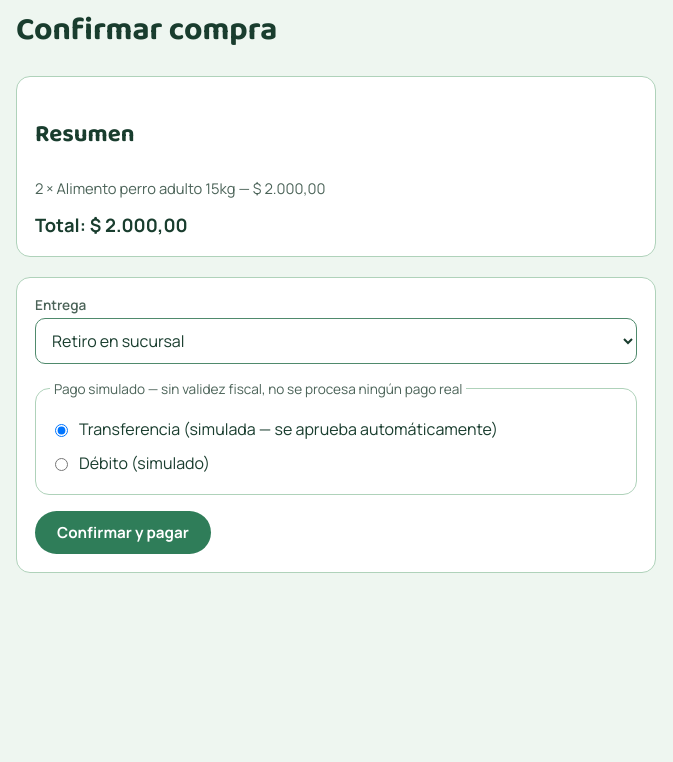
Test: Checkout › si el pago simulado es rechazado (402), muestra el motivo y no navega
Expected: the text "Total: $ 2.000,00" is shown, [35,212,188,238]
Click the button "Confirmar y pagar". click: point(123, 532)
box: [35,511,211,554]
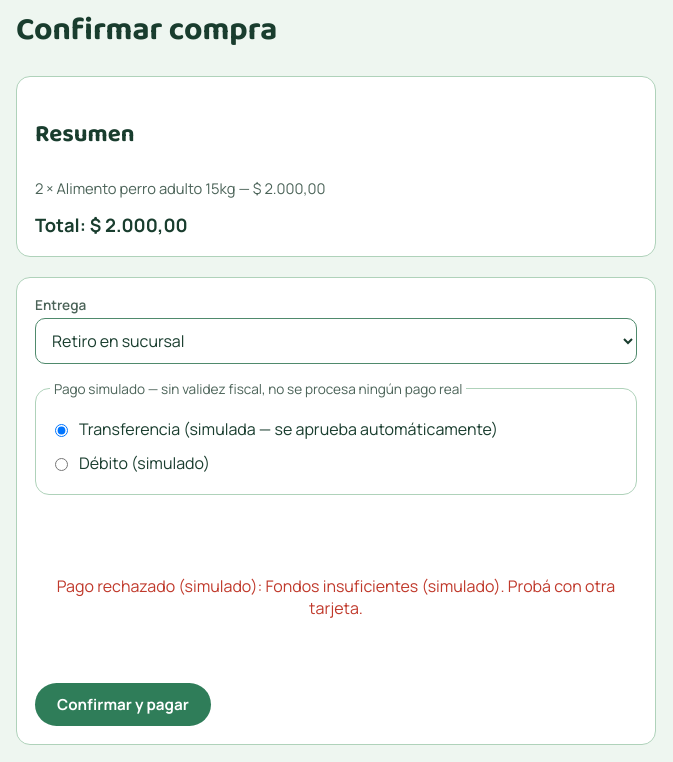
Expected: the text "Fondos insuficientes (simulado)" is shown, [57,575,615,619]
